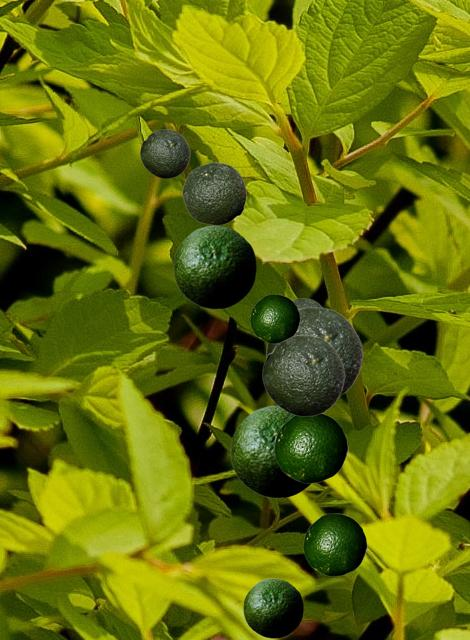calamansi: (266, 307, 362, 396), (230, 405, 312, 497), (173, 225, 255, 308), (262, 335, 344, 415), (274, 413, 347, 482), (303, 513, 366, 575), (182, 162, 245, 224), (243, 578, 302, 637), (140, 129, 189, 177), (250, 294, 299, 342), (293, 298, 322, 308)
